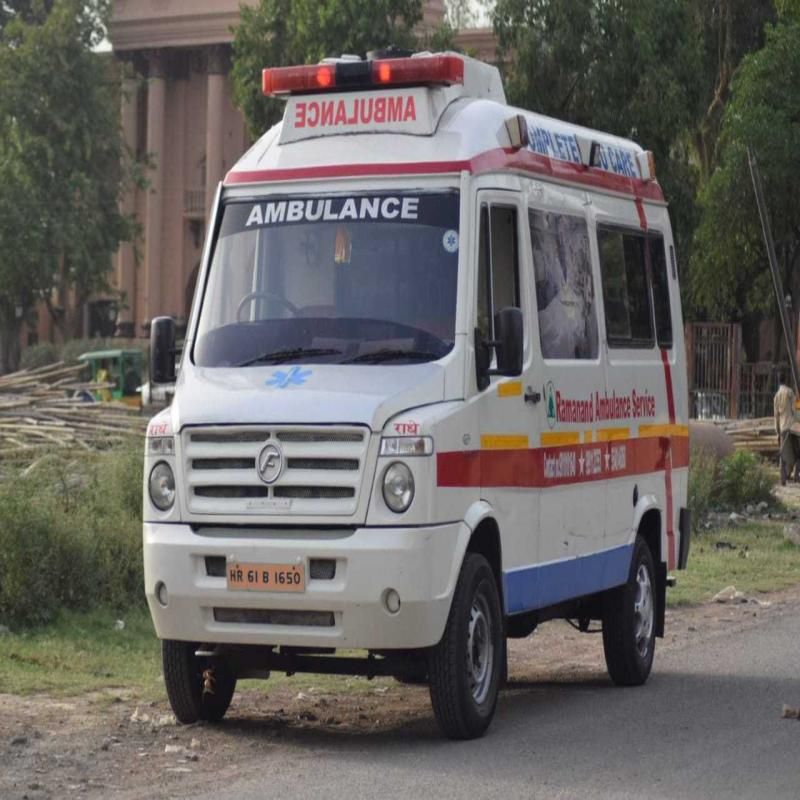ambulance: (172, 100, 670, 715)
